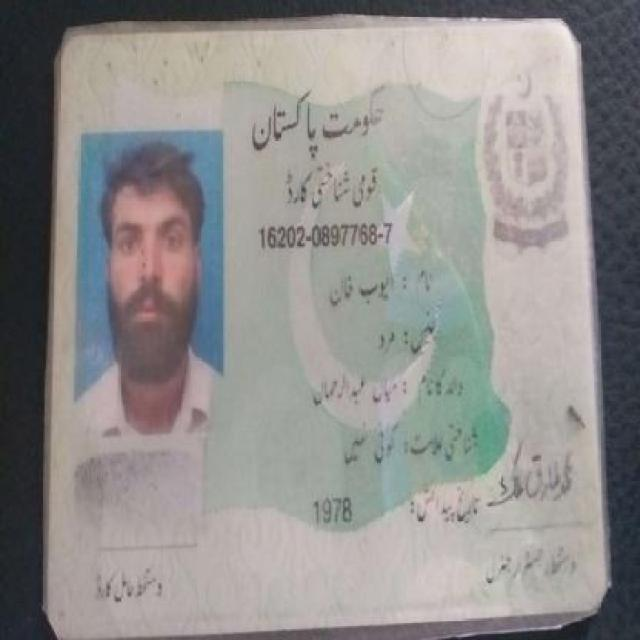Front: (51, 29, 602, 623)
